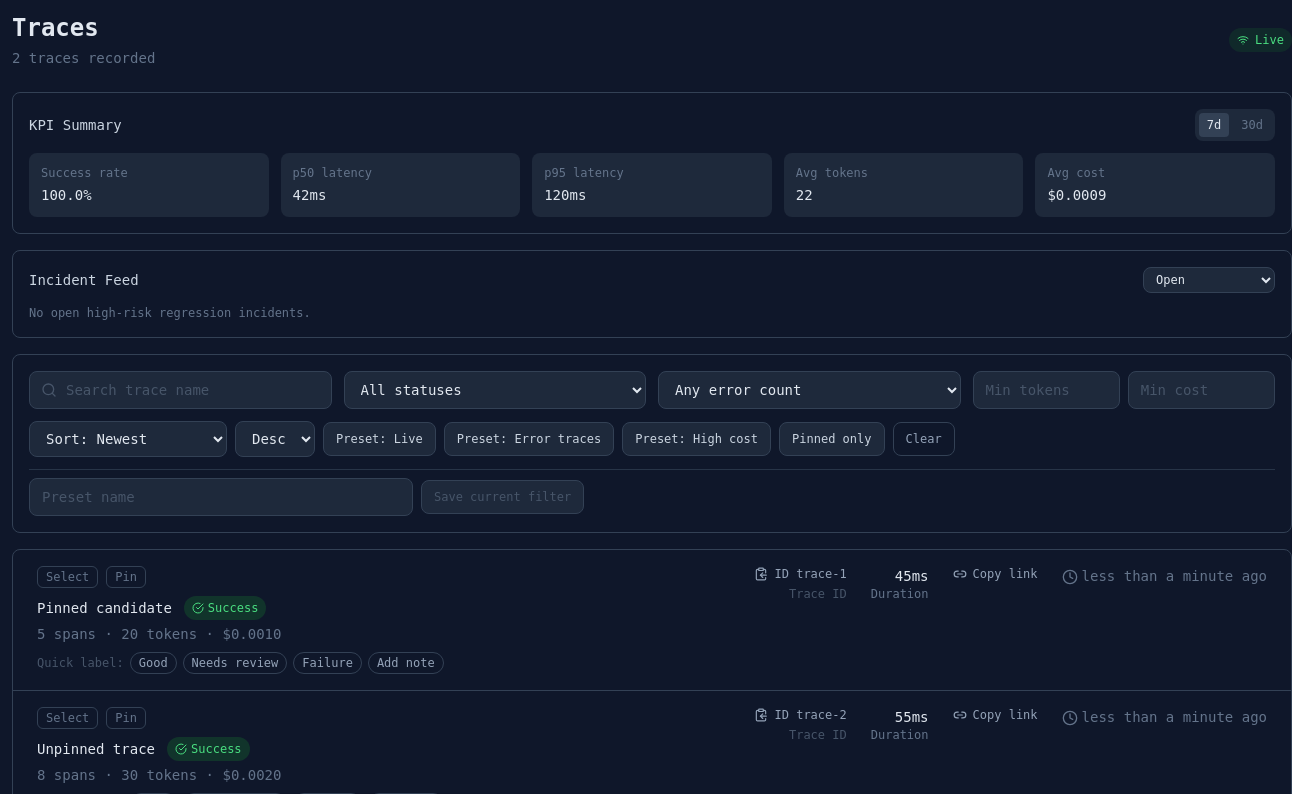
it: TracesPage websocket security UX › supports pinning traces and pinned-only view
Expected: the text "Pinned candidate" is shown, [37, 598, 172, 618]
Expected: the text "Unpinned trace" is shown, [37, 739, 155, 759]
Step 1. Click the button with aria-label "Pin trace trace-1" → (126, 577), box [106, 566, 146, 588]
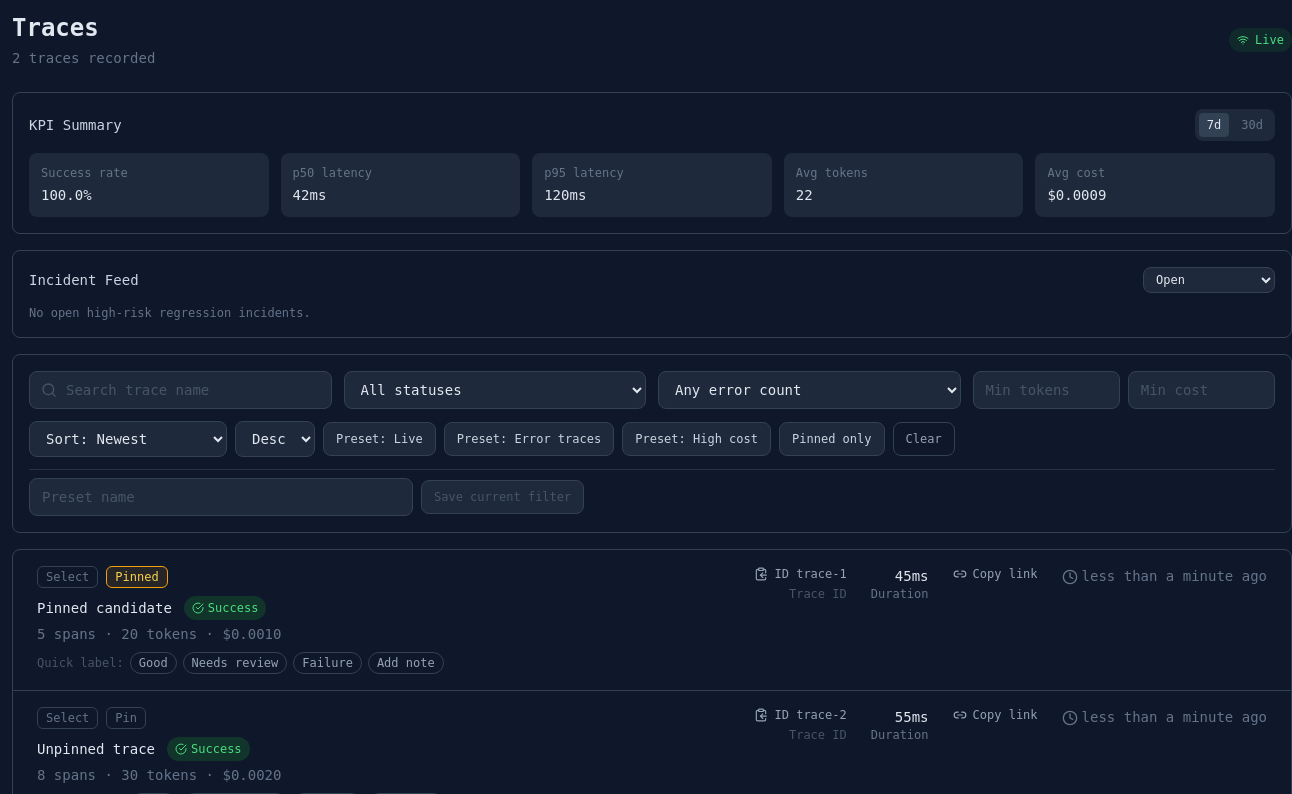
Step 2. Click the button "Pinned only" → (832, 439), box [779, 422, 884, 456]
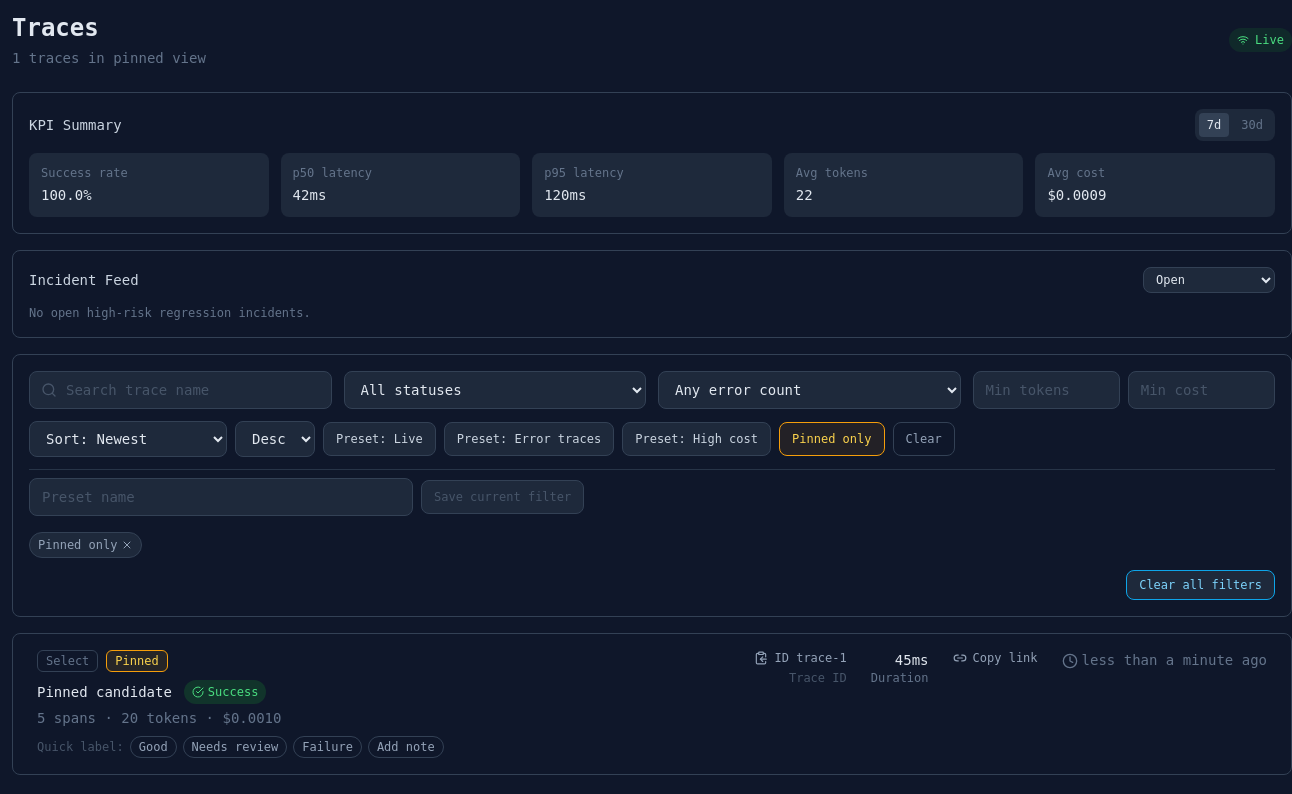
Expected: the text "Pinned candidate" is shown, [37, 682, 172, 702]
Now the link "Unpinned trace" is gone
